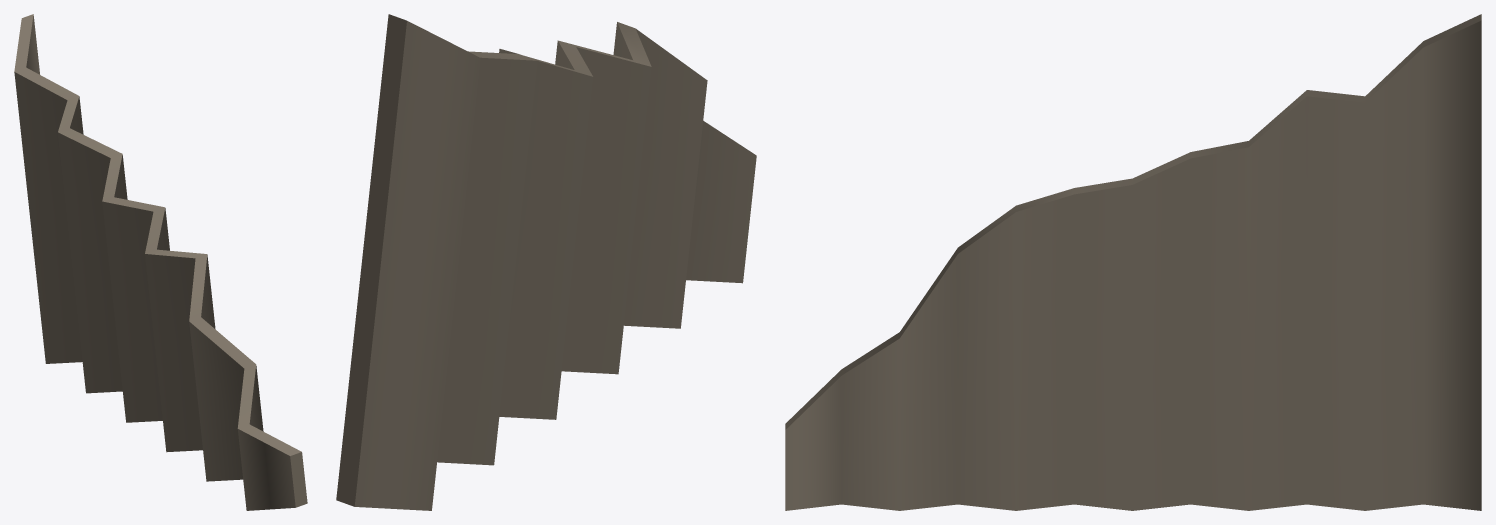
The model's file is taule 3.fbx.
3 views of the same model, side by side, from view 1: azimuth 30°, elevation 25°; view 2: azimuth 150°, elevation 25°; view 3: azimuth 270°, elevation 25° (orthographic). The views are drawn at different scales.
Parts seen in each view (by area): view 1: taule_3; view 2: taule_3; view 3: taule_3.
Part boxes in pixels (left/top/right/bottom): taule_3: left=14, top=14, right=307, bottom=510; taule_3: left=336, top=14, right=756, bottom=510; taule_3: left=785, top=14, right=1481, bottom=510.
Size of the model in its own units: 0.2767 by 1.2 by 1.57.
